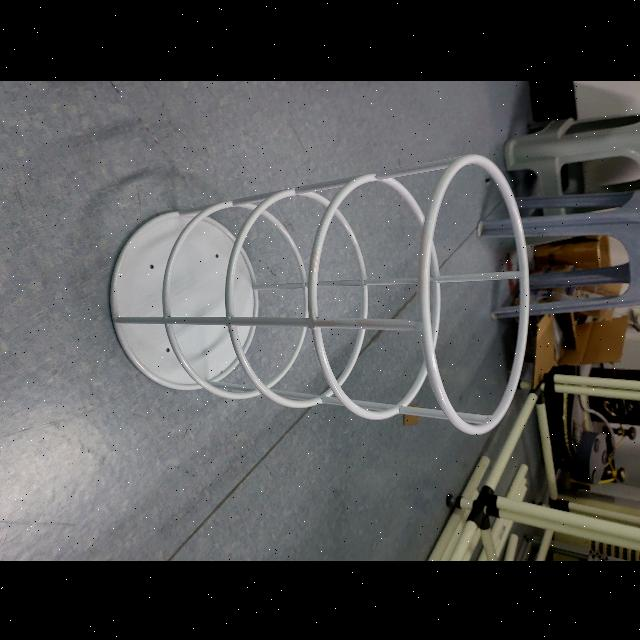S: (105, 150, 535, 436)
